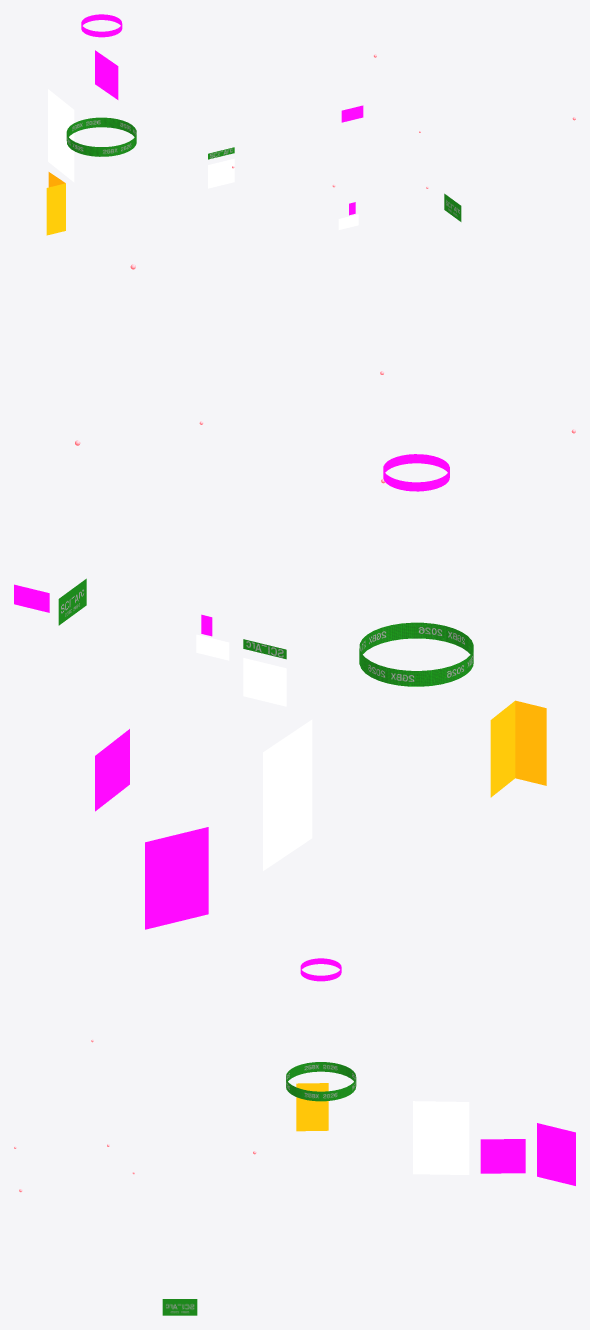
The model's file is NYC_MEDIA.glb.
3 renders of one model, top to bottom at view 1: azimuth 30°, elevation 25°; view 2: azimuth 150°, elevation 25°; view 3: azimuth 270°, elevation 25°, orthographic. The views are drawn at different scales.
Parts seen in each view (by area): view 1: Plane.049, Circle, Plane.044, Plane.043, Plane.045, Circle.001, Plane.047; view 2: Plane.049, Plane.042, Plane.044, Circle, Plane.043, Plane.045, Circle.001; view 3: Plane.049, Plane.042, Plane.043, Circle, Plane.044, Plane.047, Circle.001.
Boxes of the visible parts, <box> form: Plane.049: <box>48,89,74,182</box>; Circle: <box>66,117,136,156</box>; Plane.044: <box>46,172,65,235</box>; Plane.043: <box>95,50,118,99</box>; Plane.045: <box>208,158,234,188</box>; Circle.001: <box>81,14,122,37</box>; Plane.047: <box>444,193,461,221</box>; Plane.049: <box>263,719,312,870</box>; Plane.042: <box>145,827,208,929</box>; Plane.044: <box>490,700,546,797</box>; Circle: <box>359,622,473,686</box>; Plane.043: <box>95,729,129,811</box>; Plane.045: <box>243,658,286,706</box>; Circle.001: <box>383,454,449,491</box>; Plane.049: <box>413,1101,469,1174</box>; Plane.042: <box>537,1123,575,1185</box>; Plane.043: <box>480,1139,525,1173</box>; Circle: <box>286,1062,356,1101</box>; Plane.044: <box>296,1083,328,1131</box>; Plane.047: <box>162,1299,197,1315</box>; Circle.001: <box>300,958,341,981</box>.
Bounding box in the file's own units: 499 × 256 × 618.
Materials: 8 (2 with a texture image).
